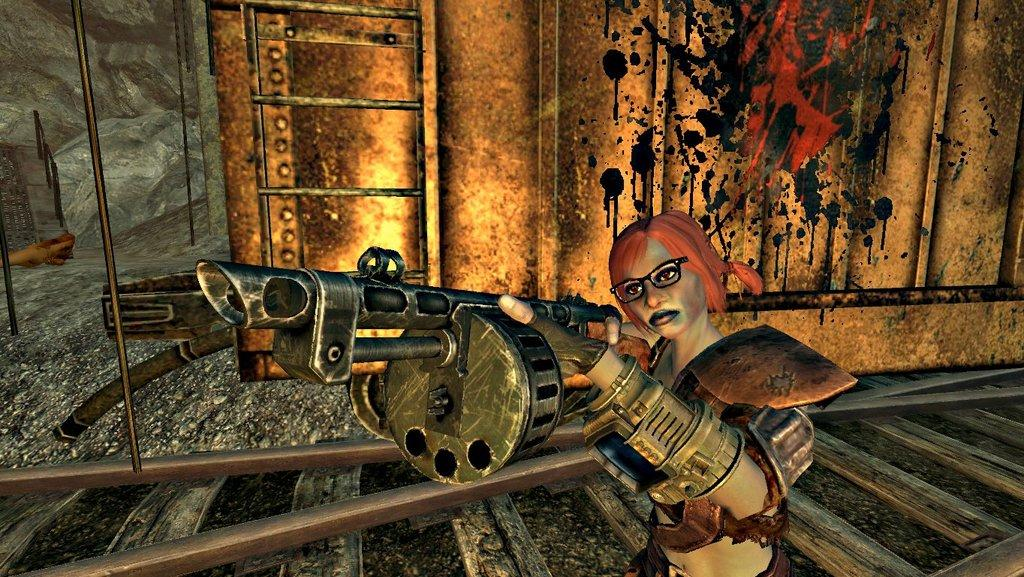Rifle: (176, 252, 625, 491)
